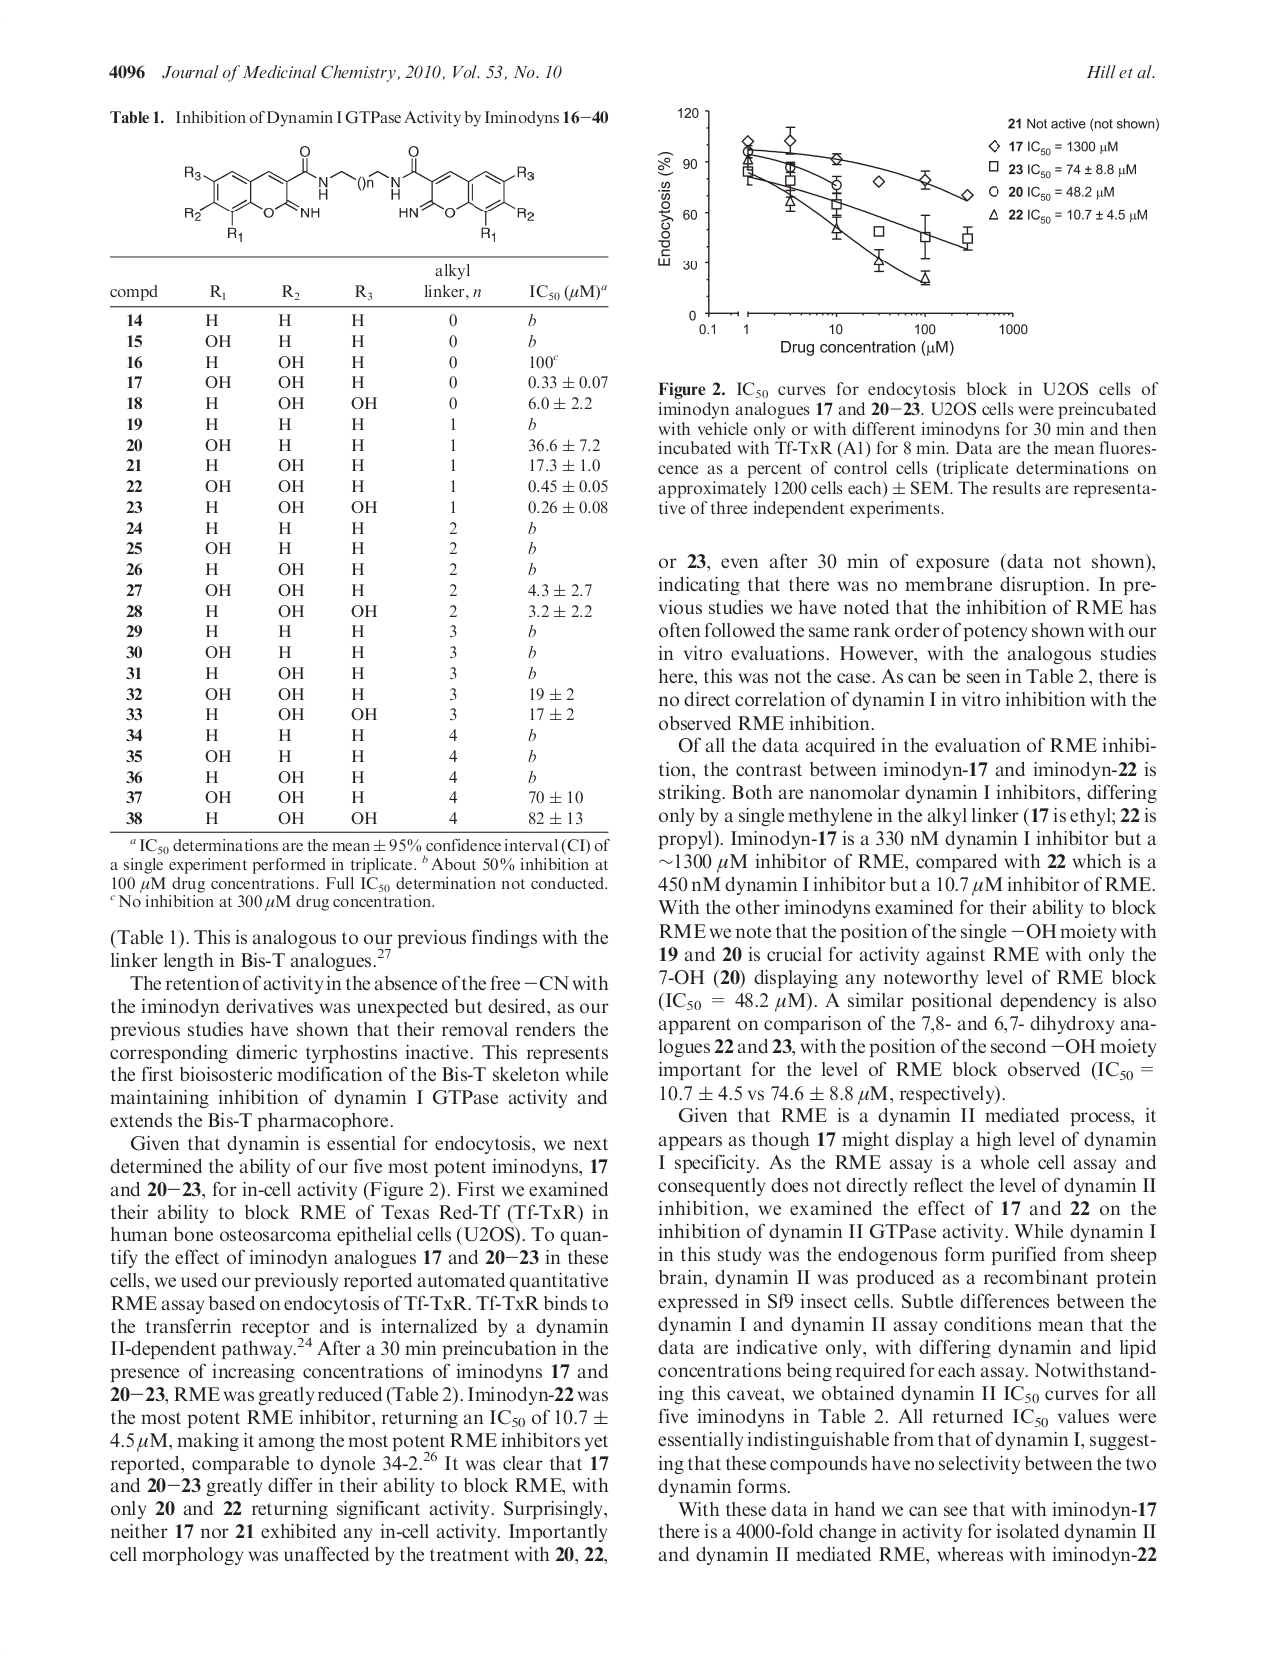exist_molecular: (177, 140, 539, 245)
